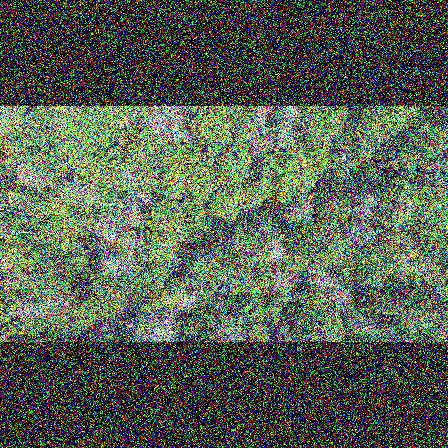Dead: (7, 291, 72, 318), (129, 314, 184, 342), (100, 255, 140, 277), (348, 192, 380, 219), (339, 226, 374, 247), (245, 106, 275, 130), (248, 133, 274, 160), (147, 108, 168, 139), (420, 152, 448, 175), (270, 266, 291, 296), (116, 157, 139, 184), (94, 220, 147, 231), (277, 106, 299, 130), (300, 270, 329, 288), (129, 190, 159, 207), (164, 105, 184, 129), (273, 129, 298, 147), (265, 243, 288, 261), (170, 123, 189, 142), (326, 293, 346, 308)
